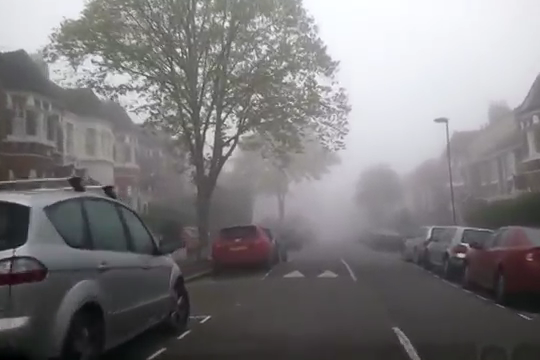car: (1, 186, 191, 360), (451, 222, 540, 307), (421, 222, 504, 285), (210, 225, 280, 274), (400, 224, 450, 266)
